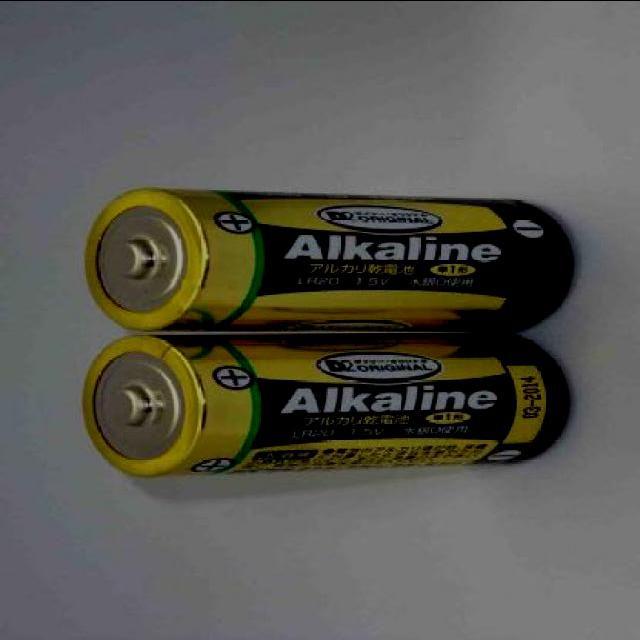AA: (72, 328, 577, 482), (76, 180, 584, 329)
